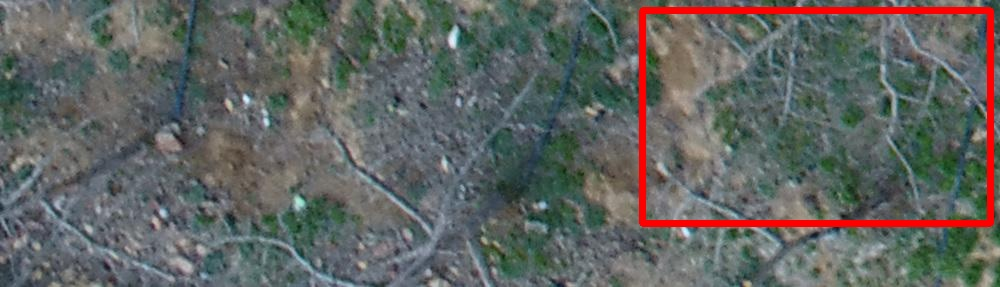apple: (642, 10, 990, 223)
